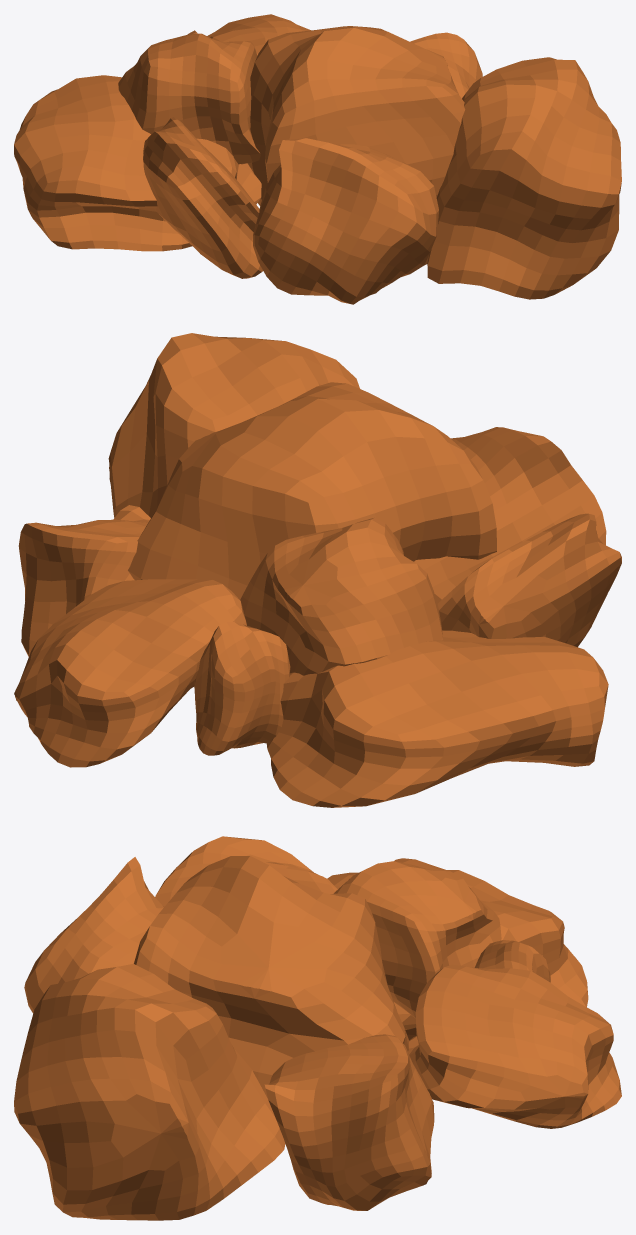
Rendered from Earth_Ground.fbx.
The picture shows the model from 3 angles, top to bottom: view 1: azimuth 30°, elevation 25°; view 2: azimuth 150°, elevation 25°; view 3: azimuth 270°, elevation 25°; orthographic projection. The views are drawn at different scales.
Parts seen in each view (by area): view 1: Earth Ground; view 2: Earth Ground; view 3: Earth Ground.
Part boxes in pixels (left/top/right/bottom): Earth Ground: left=14, top=14, right=621, bottom=304; Earth Ground: left=14, top=333, right=621, bottom=807; Earth Ground: left=14, top=836, right=621, bottom=1220.
Size of the model in its own units: 630 by 304 by 623.
